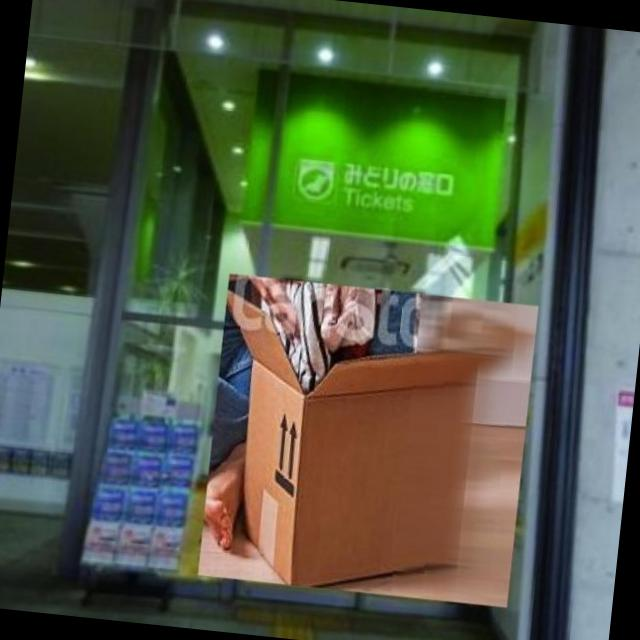box: (192, 268, 545, 614)
